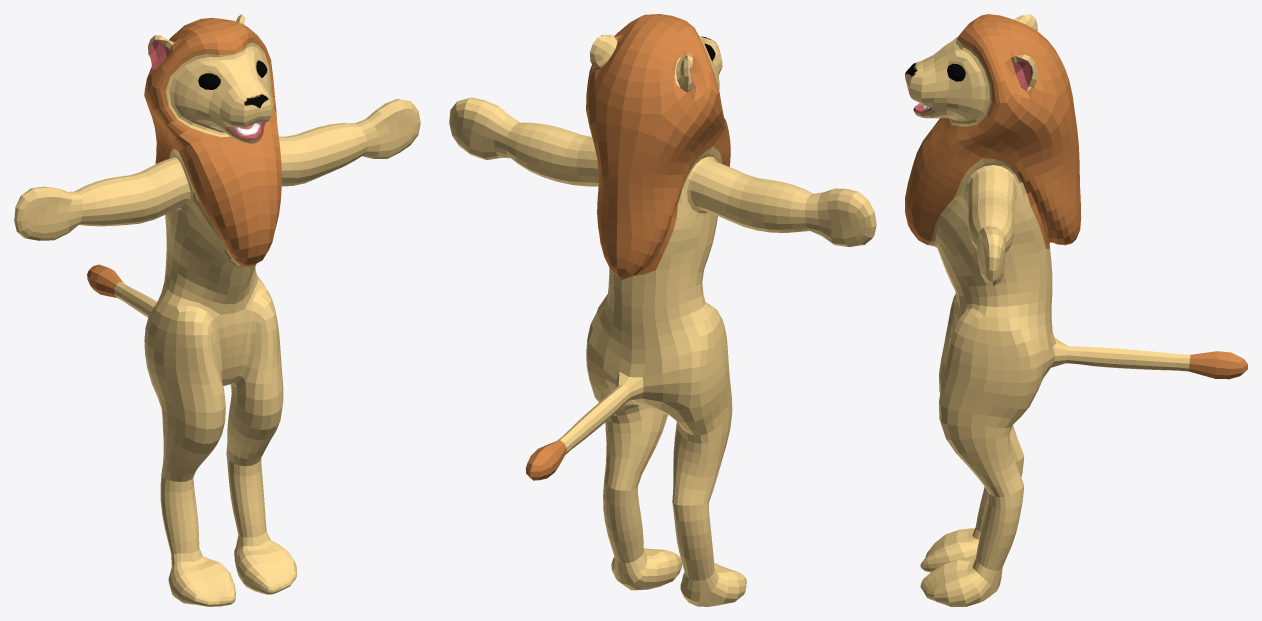
Rendered from Unwrapped_Male_Lion.fbx.
3 renders of one model, left to right at view 1: azimuth 30°, elevation 25°; view 2: azimuth 150°, elevation 25°; view 3: azimuth 270°, elevation 25°, orthographic. The views are drawn at different scales.
Parts seen in each view (by area): view 1: lion:Group20448; view 2: lion:Group20448; view 3: lion:Group20448.
Part boxes in pixels (x1,y1,x2,y2): lion:Group20448: (14, 14, 420, 606); lion:Group20448: (449, 14, 876, 606); lion:Group20448: (905, 14, 1247, 606).
Size of the model in its own units: 3.66 by 4.78 by 2.65.
